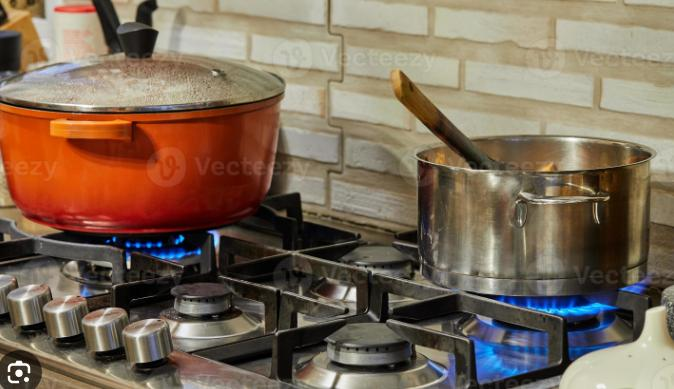controlled_fire: (436, 250, 674, 387), (56, 203, 259, 298)
